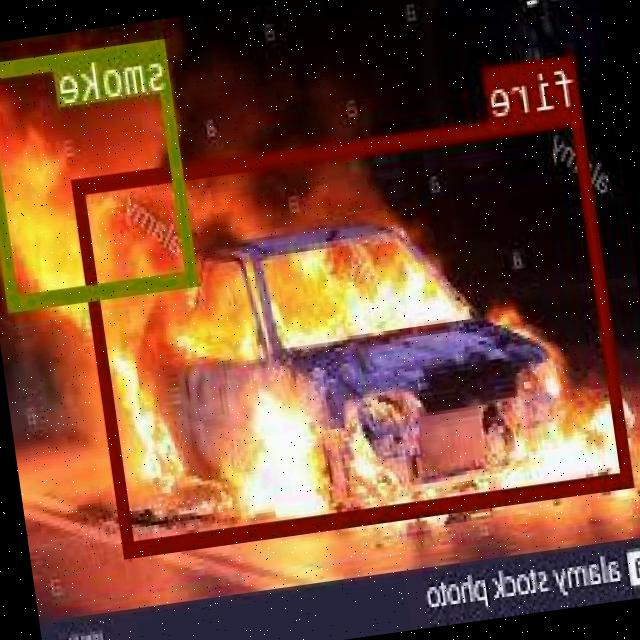fire: (74, 108, 636, 556)
smoke: (0, 37, 200, 307)
